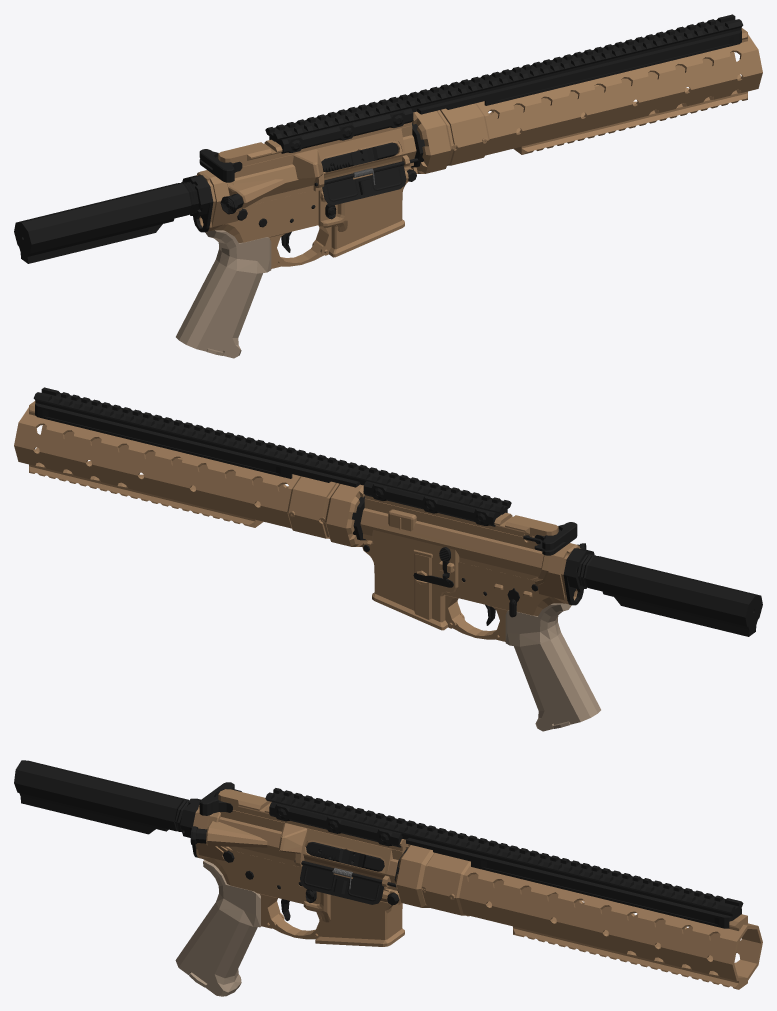
File: bcm_mk_12_a5.glb
The picture shows the model from 3 angles, top to bottom: view 1: azimuth 30°, elevation 25°; view 2: azimuth 150°, elevation 25°; view 3: azimuth 330°, elevation 25°; orthographic projection.
Parts seen in each view (by area): view 1: mk12a5 handguard (bcm)_4, mk12a5 lower receiver_15 (×2), mk12a5 top rail_6, mk12a5 upper receiver_18, mk12a5 pistol grip_3, mk12a5 dust cover_11, mk12a5 bolt carrier_12, mk12a5 charging handle_14; view 2: mk12a5 handguard (bcm)_4, mk12a5 lower receiver_15 (×2), mk12a5 top rail_6, mk12a5 upper receiver_18, mk12a5 pistol grip_3, mk12a5 charging handle_14; view 3: mk12a5 handguard (bcm)_4, mk12a5 lower receiver_15 (×2), mk12a5 top rail_6, mk12a5 upper receiver_18, mk12a5 pistol grip_3, mk12a5 dust cover_11, mk12a5 bolt carrier_12, mk12a5 charging handle_14.
Boxes of the visible parts, x1=… form: mk12a5 handguard (bcm)_4: x1=411, y1=28, x2=762, y2=173; mk12a5 lower receiver_15 (×2): x1=14, y1=167, x2=416, y2=268; mk12a5 top rail_6: x1=265, y1=14, x2=743, y2=153; mk12a5 upper receiver_18: x1=218, y1=118, x2=416, y2=208; mk12a5 pistol grip_3: x1=176, y1=230, x2=271, y2=358; mk12a5 dust cover_11: x1=314, y1=158, x2=419, y2=205; mk12a5 bolt carrier_12: x1=321, y1=142, x2=398, y2=172; mk12a5 charging handle_14: x1=199, y1=149, x2=242, y2=182; mk12a5 handguard (bcm)_4: x1=14, y1=401, x2=365, y2=546; mk12a5 lower receiver_15 (×2): x1=362, y1=540, x2=762, y2=641; mk12a5 top rail_6: x1=33, y1=387, x2=511, y2=526; mk12a5 upper receiver_18: x1=360, y1=491, x2=558, y2=580; mk12a5 pistol grip_3: x1=505, y1=603, x2=600, y2=731; mk12a5 charging handle_14: x1=523, y1=522, x2=577, y2=555; mk12a5 handguard (bcm)_4: x1=395, y1=844, x2=762, y2=989; mk12a5 lower receiver_15 (×2): x1=14, y1=760, x2=404, y2=946; mk12a5 top rail_6: x1=265, y1=788, x2=743, y2=928; mk12a5 upper receiver_18: x1=206, y1=789, x2=409, y2=890; mk12a5 pistol grip_3: x1=175, y1=860, x2=260, y2=996; mk12a5 dust cover_11: x1=294, y1=860, x2=396, y2=904; mk12a5 bolt carrier_12: x1=306, y1=842, x2=384, y2=871; mk12a5 charging handle_14: x1=199, y1=782, x2=241, y2=815.
Bounding box in the file's own units: 7.07 × 1.97 × 0.6698.
